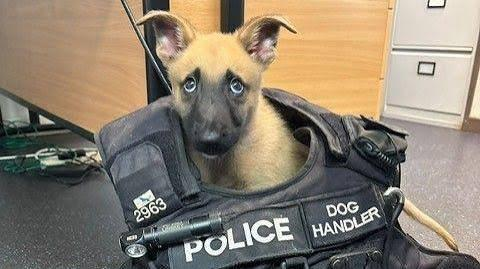puppy-dog: (130, 11, 311, 191)
